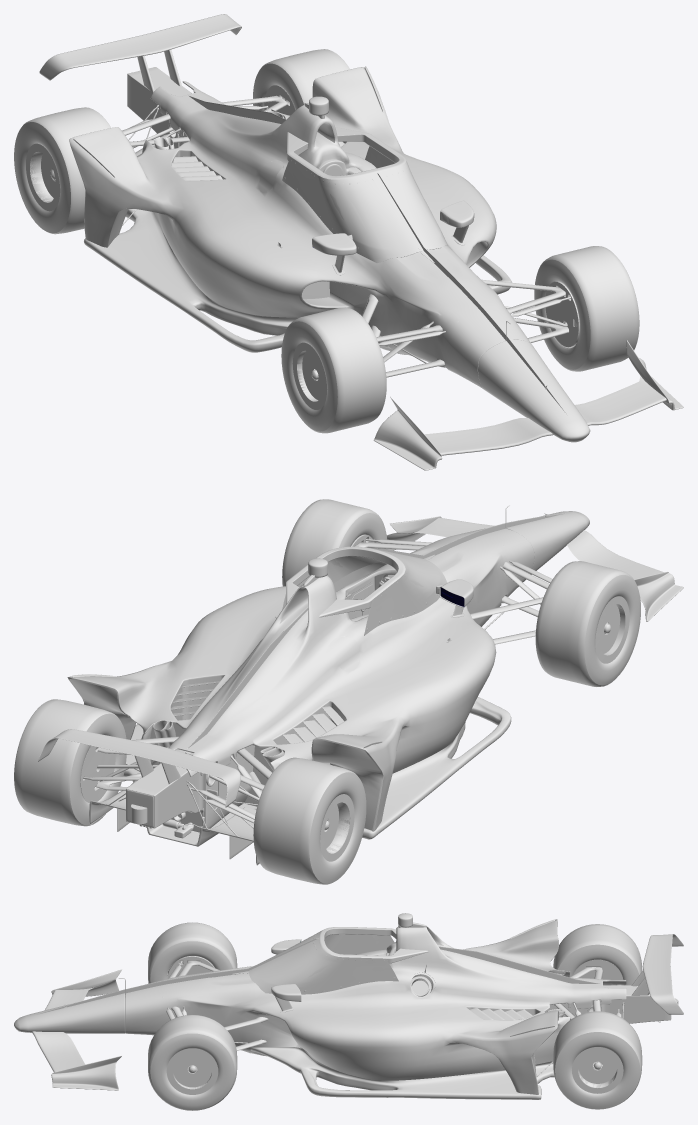
Rendered from indycar.glb.
3 renders of one model, top to bottom at view 1: azimuth 30°, elevation 25°; view 2: azimuth 150°, elevation 25°; view 3: azimuth 270°, elevation 25°, orthographic. The views are drawn at different scales.
Parts seen in each view (by area): view 1: indy19_body_max_SUB0, indy20_glass_high_SUB1, indy19_floor_ovala_max_SUB0, indy19_tyre_rf_SUB0, indy19_tyre_lf_SUB0, indy19_nosecone_oval_max_SUB0, indy19_fwing_oval_max_SUB0, indy19_rwing_oval_max_SUB0, indy19_tyre_rr_SUB1, indy19_tyre_rr_SUB0, indy19_tyre_rf_SUB1, indy19_tyre_lf_SUB1 (+13 smaller); view 2: indy19_body_max_SUB0, indy19_floor_ovala_max_SUB0, indy19_tyre_rr_SUB0, indy19_tyre_lr_SUB0, indy19_tyre_rf_SUB0, indy19_body_max_SUB1, indy19_engineV_max_SUB0, indy19_tyre_lf_SUB0, indy20_glass_high_SUB1, indy19_tyre_rr_SUB1, indy19_tyre_rf_SUB1, indy19_rwing_oval_max_SUB0 (+22 smaller); view 3: indy19_body_max_SUB0, indy19_floor_ovala_max_SUB0, indy20_glass_high_SUB1, indy19_tyre_lr_SUB1, indy19_tyre_lf_SUB1, indy19_nosecone_oval_max_SUB0, indy19_tyre_lr_SUB0, indy19_tyre_lf_SUB0, indy19_rwing_oval_max_SUB0, indy19_fwing_oval_max_SUB0, indy19_tyre_rr_SUB0, indy20_structure_max_SUB1 (+20 smaller).
Part boxes in pixels (<box>): indy19_body_max_SUB0: <box>69,66,531,387</box>; indy20_glass_high_SUB1: <box>282,156,447,263</box>; indy19_floor_ovala_max_SUB0: <box>84,209,511,352</box>; indy19_tyre_rf_SUB0: <box>285,307,386,433</box>; indy19_tyre_lf_SUB0: <box>538,246,639,371</box>; indy19_nosecone_oval_max_SUB0: <box>478,336,590,442</box>; indy19_fwing_oval_max_SUB0: <box>424,376,666,455</box>; indy19_rwing_oval_max_SUB0: <box>39,14,241,80</box>; indy19_tyre_rr_SUB1: <box>14,122,70,233</box>; indy19_tyre_rr_SUB0: <box>22,107,110,234</box>; indy19_tyre_rf_SUB1: <box>281,321,337,431</box>; indy19_tyre_lf_SUB1: <box>534,259,590,369</box>; indy19_body_max_SUB0: <box>67,523,534,831</box>; indy19_floor_ovala_max_SUB0: <box>89,697,511,865</box>; indy19_tyre_rr_SUB0: <box>253,757,357,884</box>; indy19_tyre_lr_SUB0: <box>14,699,117,826</box>; indy19_tyre_rf_SUB0: <box>535,561,636,686</box>; indy19_body_max_SUB1: <box>69,573,507,830</box>; indy19_engineV_max_SUB0: <box>126,744,254,832</box>; indy19_tyre_lf_SUB0: <box>282,499,383,586</box>; indy20_glass_high_SUB1: <box>282,550,446,635</box>; indy19_tyre_rr_SUB1: <box>309,772,366,883</box>; indy19_tyre_rf_SUB1: <box>584,575,640,685</box>; indy19_rwing_oval_max_SUB0: <box>39,729,240,807</box>; indy19_body_max_SUB0: <box>125,919,626,1094</box>; indy19_floor_ovala_max_SUB0: <box>250,1047,554,1099</box>; indy20_glass_high_SUB1: <box>248,931,398,994</box>; indy19_tyre_lr_SUB1: <box>555,1032,640,1109</box>; indy19_tyre_lf_SUB1: <box>150,1033,234,1109</box>; indy19_nosecone_oval_max_SUB0: <box>14,989,124,1033</box>; indy19_tyre_lr_SUB0: <box>553,1011,642,1109</box>; indy19_tyre_lf_SUB0: <box>148,1015,237,1110</box>; indy19_rwing_oval_max_SUB0: <box>642,934,683,1014</box>; indy19_fwing_oval_max_SUB0: <box>32,987,93,1072</box>; indy19_tyre_rr_SUB0: <box>553,924,642,974</box>; indy20_structure_max_SUB1: <box>231,927,428,974</box>.
Size of the model in its own units: 0.0191 by 0.0114 by 0.0486.
Materials: 34 (1 with a texture image).
